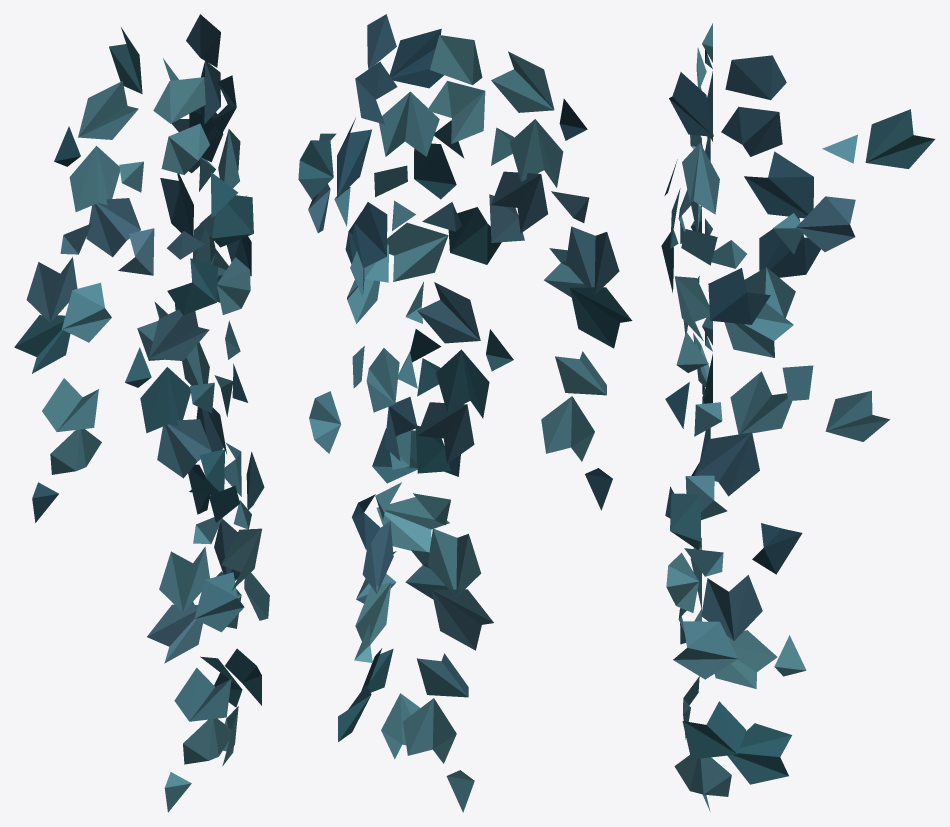
The model's file is SM_Env_Ivy_Corner_01.fbx.
3 renders of one model, left to right at view 1: azimuth 30°, elevation 25°; view 2: azimuth 150°, elevation 25°; view 3: azimuth 270°, elevation 25°, orthographic. The views are drawn at different scales.
Parts seen in each view (by area): view 1: SM_Env_Ivy_Corner_01; view 2: SM_Env_Ivy_Corner_01; view 3: SM_Env_Ivy_Corner_01.
Boxes of the visible parts, bbox=[...] form: SM_Env_Ivy_Corner_01: bbox=[14, 14, 269, 812]; SM_Env_Ivy_Corner_01: bbox=[298, 14, 632, 812]; SM_Env_Ivy_Corner_01: bbox=[661, 23, 935, 811].
Bounding box in the file's own units: 1.49 × 4.33 × 1.37.
1 material, 1 textured.
